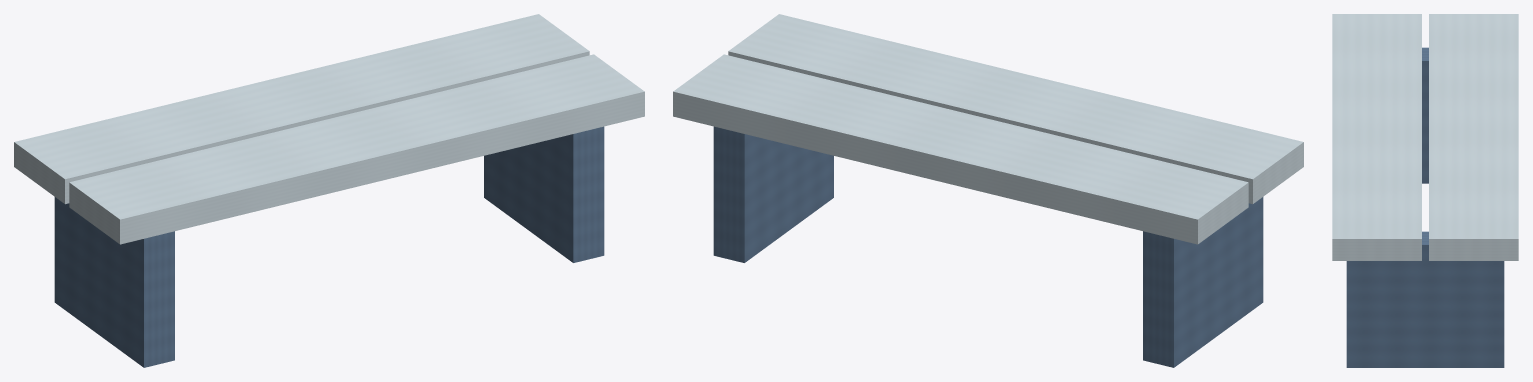
Rendered from atlas100-polar-util03.lod1.glb.
The picture shows the model from 3 angles, left to right: view 1: azimuth 30°, elevation 25°; view 2: azimuth 150°, elevation 25°; view 3: azimuth 270°, elevation 25°; orthographic projection. The views are drawn at different scales.
Visible parts, largest first — view 1: atlas100-polar-util03:part-004, atlas100-polar-util03:part-002, atlas100-polar-util03:part-000, atlas100-polar-util03:part-001; view 2: atlas100-polar-util03:part-002, atlas100-polar-util03:part-004, atlas100-polar-util03:part-000, atlas100-polar-util03:part-001; view 3: atlas100-polar-util03:part-002, atlas100-polar-util03:part-004, atlas100-polar-util03:part-001, atlas100-polar-util03:part-000.
Part boxes in pixels (x1,y1,x2,y2): atlas100-polar-util03:part-004: (69,54,644,244); atlas100-polar-util03:part-002: (14,14,589,204); atlas100-polar-util03:part-000: (54,197,174,367); atlas100-polar-util03:part-001: (484,126,604,262); atlas100-polar-util03:part-002: (673,54,1248,244); atlas100-polar-util03:part-004: (728,14,1303,204); atlas100-polar-util03:part-000: (1143,197,1263,367); atlas100-polar-util03:part-001: (713,126,833,262); atlas100-polar-util03:part-002: (1429,14,1518,260); atlas100-polar-util03:part-004: (1332,14,1421,260); atlas100-polar-util03:part-001: (1346,231,1504,367); atlas100-polar-util03:part-000: (1422,47,1428,183).
Bounding box in the file's own units: 2.25 × 0.665 × 0.7877.
Materials: 2 (2 with a texture image).
